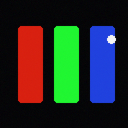0 point: (107, 35, 115, 43)
